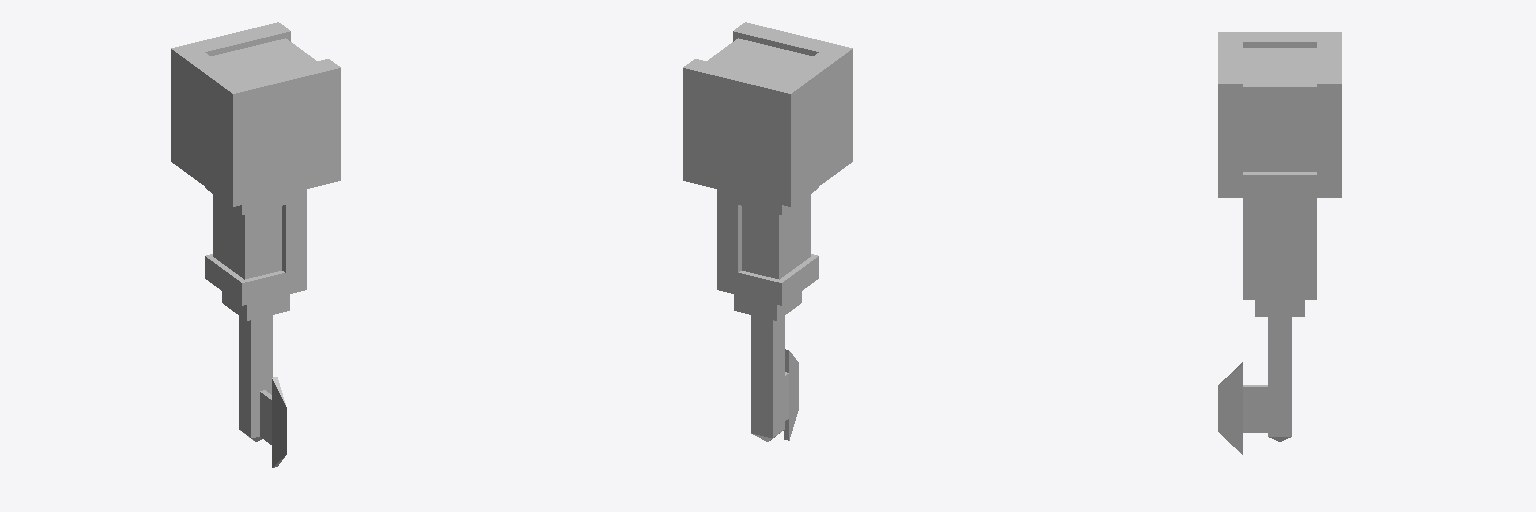
File: arm_axe_r.obj
The picture shows the model from 3 angles: view 1: azimuth 30°, elevation 25°; view 2: azimuth 150°, elevation 25°; view 3: azimuth 270°, elevation 25°; orthographic projection.
Parts seen in each view (by area): view 1: ARM_RIGHT_AXE_Cube.043; view 2: ARM_RIGHT_AXE_Cube.043; view 3: ARM_RIGHT_AXE_Cube.043.
Part boxes in pixels (x1,y1,x2,y2): ARM_RIGHT_AXE_Cube.043: (171,22,340,467); ARM_RIGHT_AXE_Cube.043: (683,22,852,441); ARM_RIGHT_AXE_Cube.043: (1218,32,1341,454).
Bounding box in the file's own units: 0.3125 × 1.09 × 0.3125.